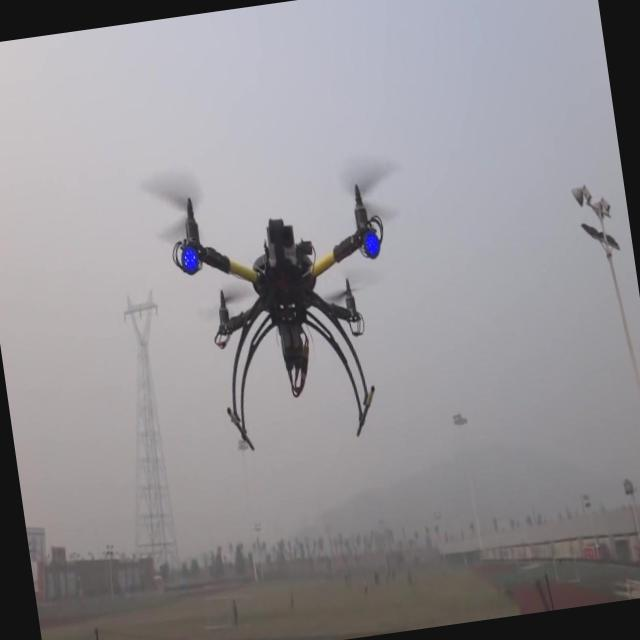drone: (151, 139, 419, 463)
